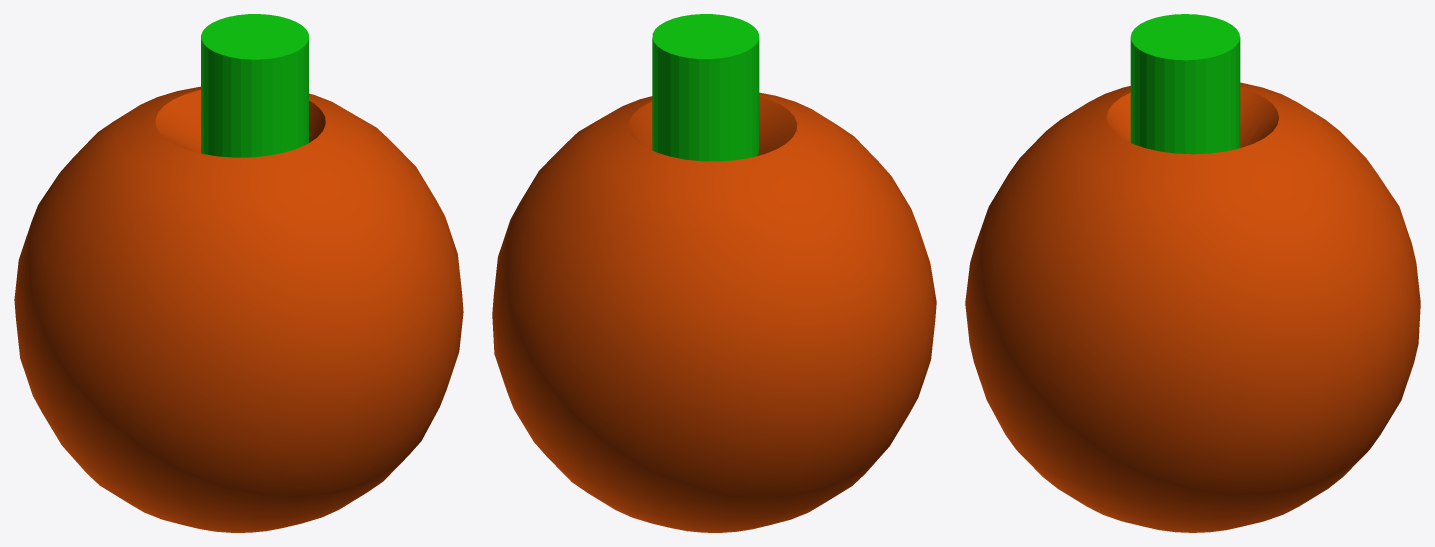
Rendered from orangeV2.obj.
3 views of the same model, side by side, from view 1: azimuth 30°, elevation 25°; view 2: azimuth 150°, elevation 25°; view 3: azimuth 270°, elevation 25° (orthographic). The views are drawn at different scales.
Parts seen in each view (by area): view 1: Sphere, Cylinder.001, Cylinder; view 2: Sphere, Cylinder.001, Cylinder; view 3: Sphere, Cylinder.001, Cylinder.
Boxes of the visible parts, x1,y1,x2,y2 form: Sphere: [14, 86, 463, 532]; Cylinder.001: [201, 14, 308, 118]; Cylinder: [201, 94, 308, 157]; Sphere: [492, 92, 936, 532]; Cylinder.001: [652, 14, 759, 117]; Cylinder: [652, 95, 759, 161]; Sphere: [965, 82, 1420, 532]; Cylinder.001: [1130, 14, 1240, 120]; Cylinder: [1130, 97, 1240, 154].
Bounding box in the file's own units: 1.98 × 2.29 × 1.98.
